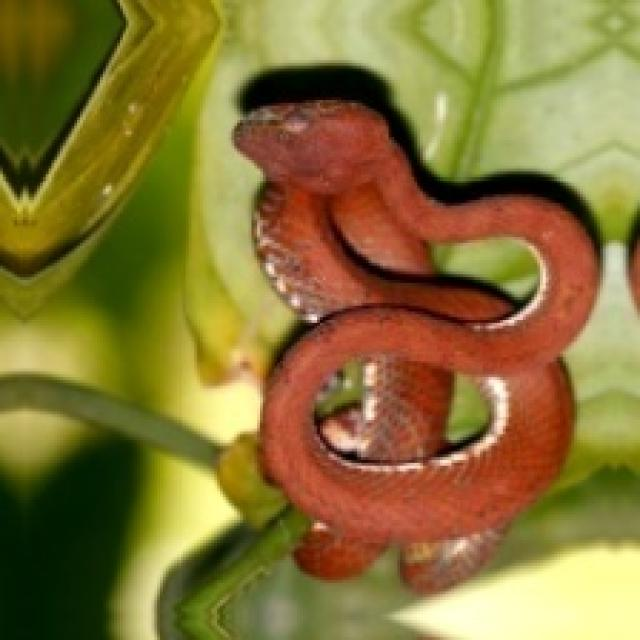philippine pitviper: (234, 100, 597, 591)
